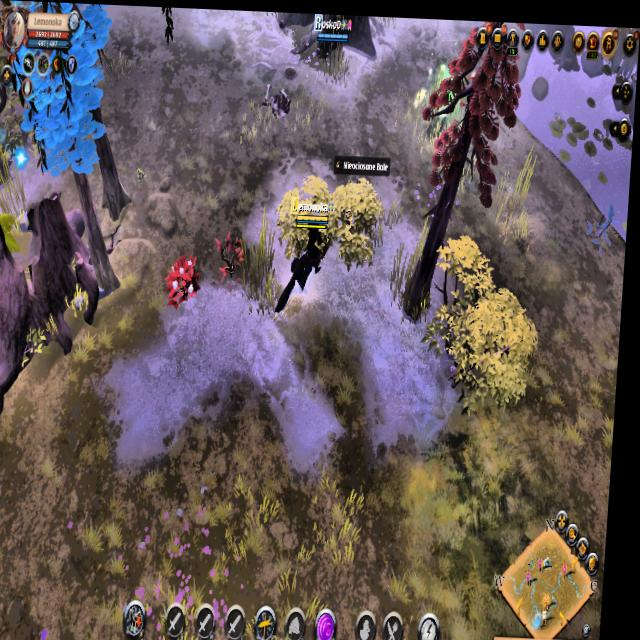fiber tier 5: (166, 249, 210, 312)
